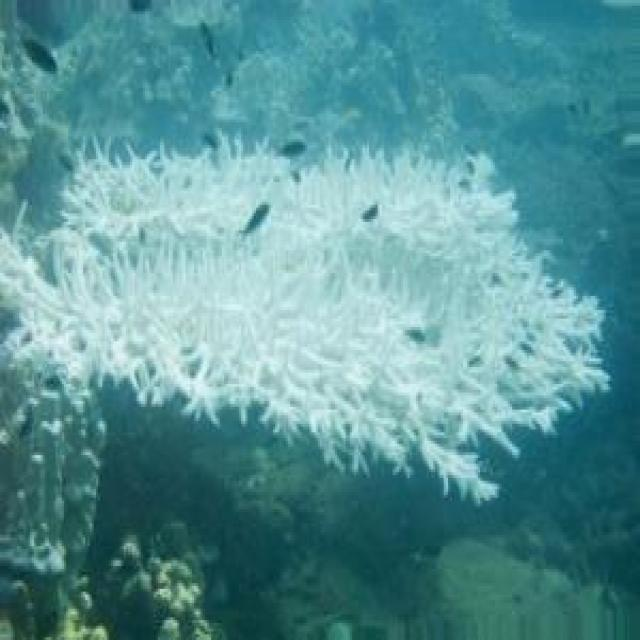bleached coral: (51, 142, 608, 501)
